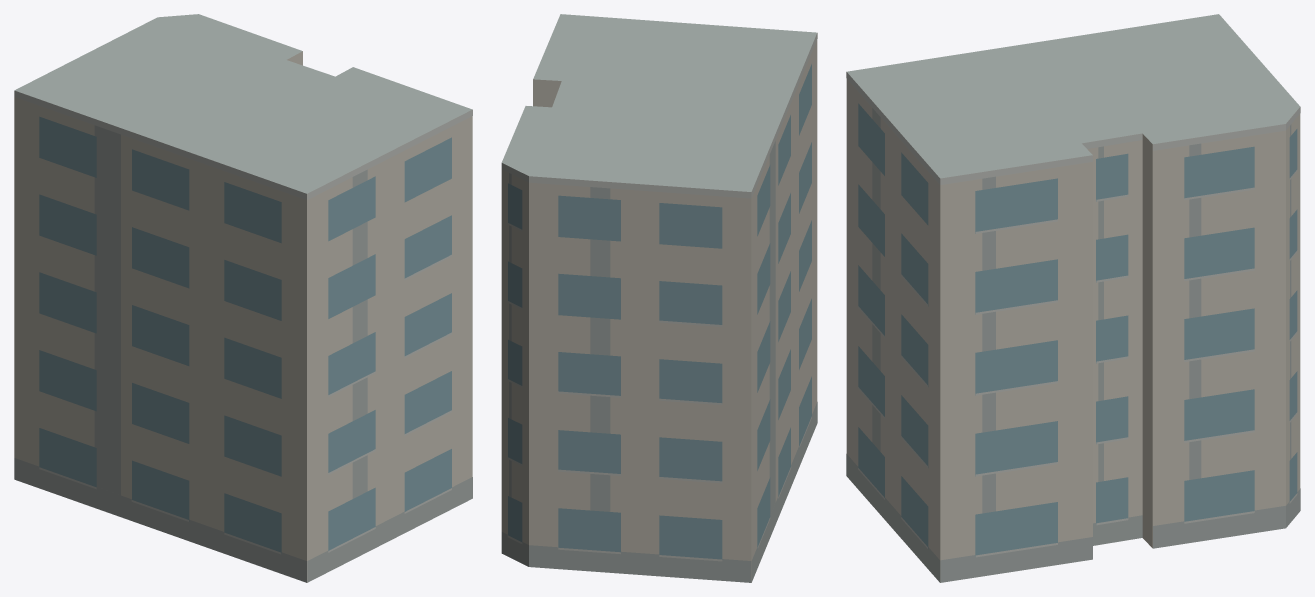
File: survey-upis-32934327.glb
The picture shows the model from 3 angles, left to right: view 1: azimuth 30°, elevation 25°; view 2: azimuth 150°, elevation 25°; view 3: azimuth 270°, elevation 25°; orthographic projection. The views are drawn at different scales.
Parts seen in each view (by area): view 1: survey-upis-32934327.tmp; view 2: survey-upis-32934327.tmp; view 3: survey-upis-32934327.tmp.
Boxes of the visible parts, <box> form: survey-upis-32934327.tmp: <box>14,14,472,582</box>; survey-upis-32934327.tmp: <box>501,14,817,582</box>; survey-upis-32934327.tmp: <box>846,14,1300,582</box>.
Bounding box in the file's own units: 12.96 × 14.85 × 15.11.
